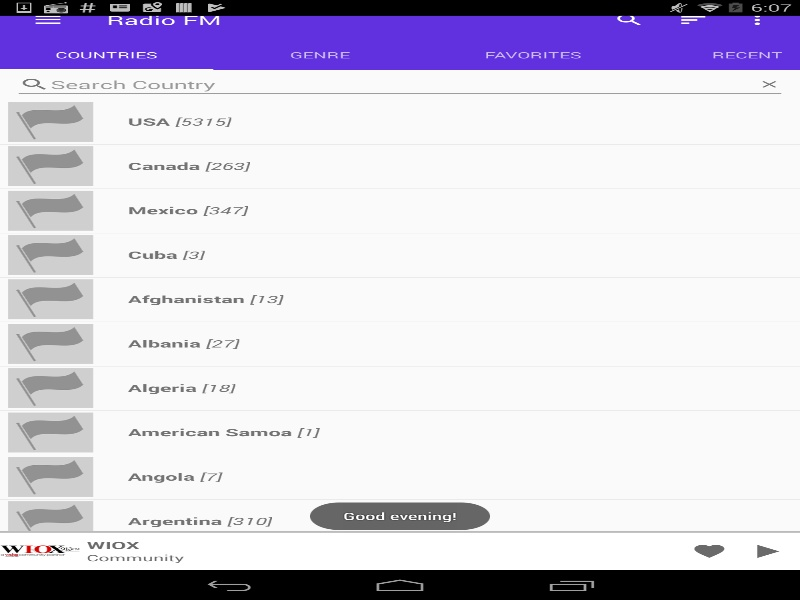Button: (10, 15, 85, 55), (681, 538, 737, 564), (737, 538, 793, 564)
Input: (13, 86, 786, 114)
